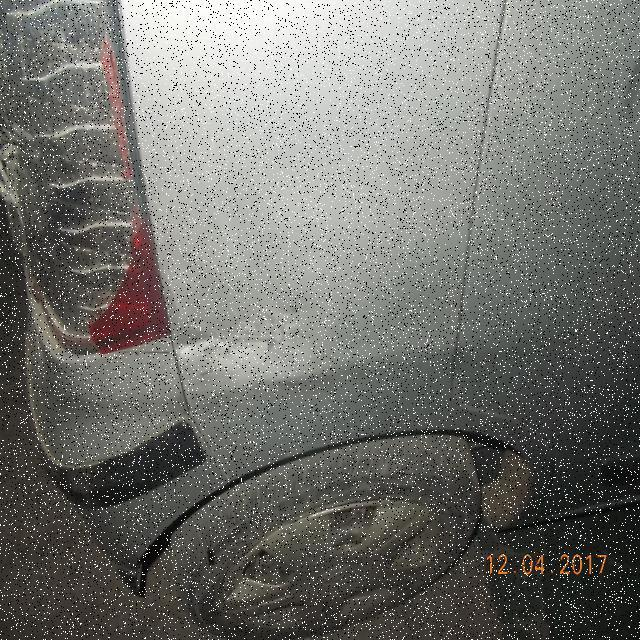quaterpanel-dent: (148, 147, 460, 576)
